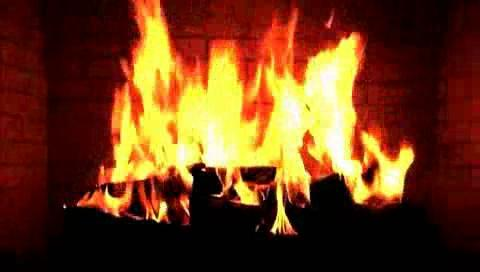fire: (84, 32, 409, 219)
